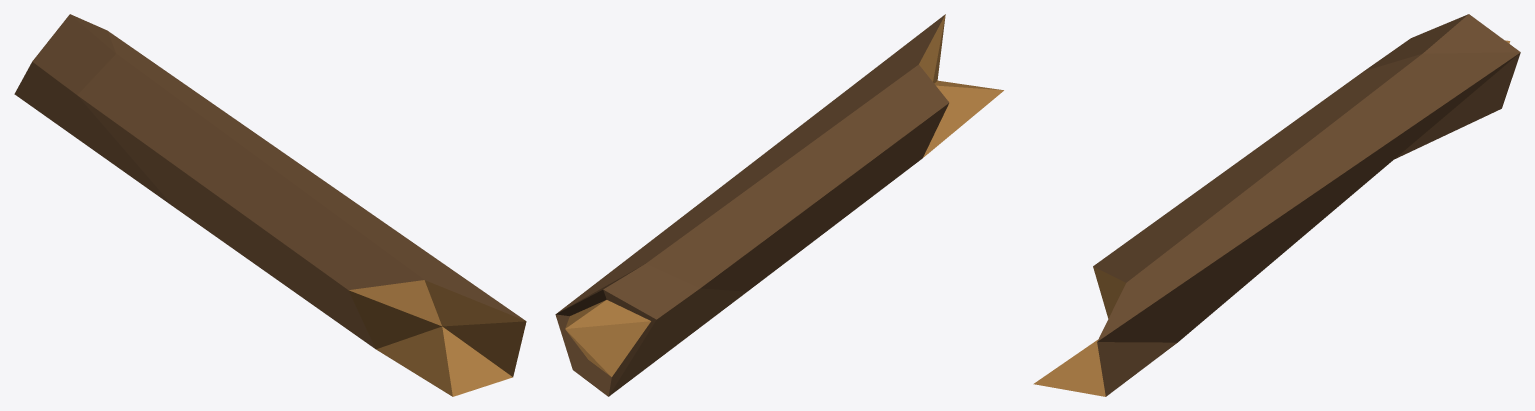
The model's file is nature-tree-dead-log-small-a.glb.
3 renders of one model, left to right at view 1: azimuth 30°, elevation 25°; view 2: azimuth 150°, elevation 25°; view 3: azimuth 330°, elevation 25°, orthographic. The views are drawn at different scales.
Parts seen in each view (by area): view 1: tree-dead-log-small-a; view 2: tree-dead-log-small-a; view 3: tree-dead-log-small-a.
Boxes of the visible parts, bbox=[...] form: tree-dead-log-small-a: bbox=[14, 14, 526, 396]; tree-dead-log-small-a: bbox=[555, 14, 1003, 396]; tree-dead-log-small-a: bbox=[1033, 14, 1520, 396].
Size of the model in its own units: 0.3658 by 0.3418 by 2.97.
